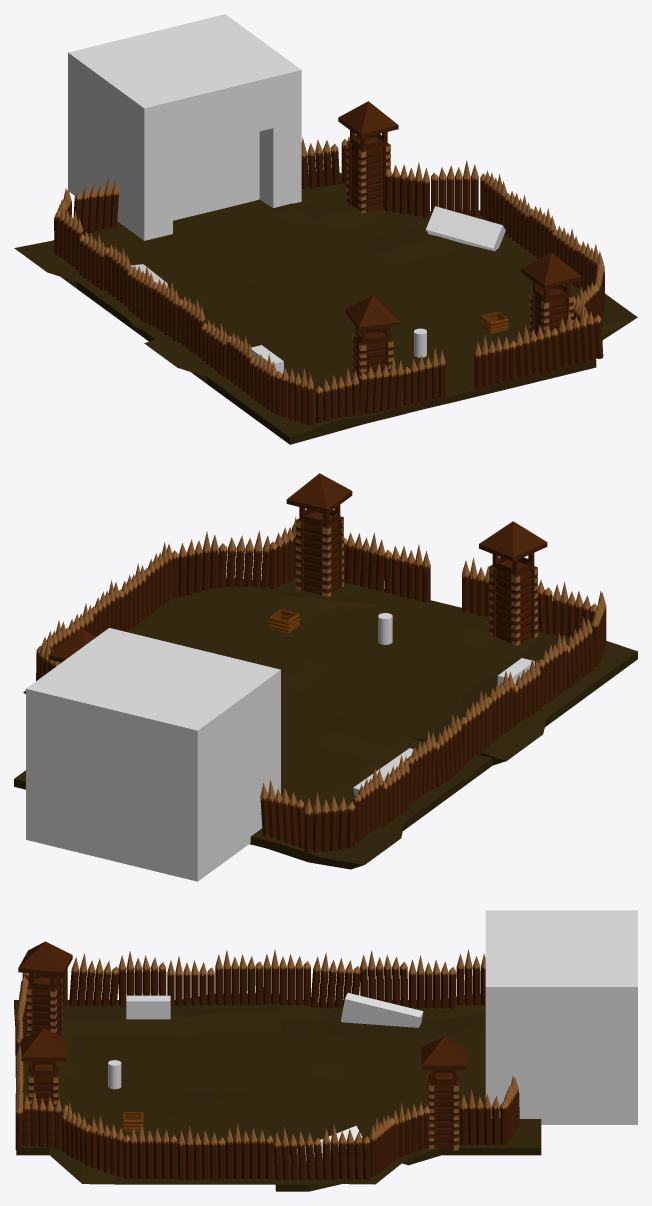
File: 2Lvl.fbx
3 renders of one model, top to bottom at view 1: azimuth 30°, elevation 25°; view 2: azimuth 150°, elevation 25°; view 3: azimuth 270°, elevation 25°, orthographic. The views are drawn at different scales.
Parts seen in each view (by area): view 1: Plane.001, Cube.008, Cube.007, Cube, Cube.001, Cube.005, Cylinder.004, Cylinder.020, Cylinder.019, Cylinder.003, Cylinder.002, Cylinder (+19 smaller); view 2: Plane.001, Cube.008, Cube.001, Cube, Cylinder.029, Cylinder.006, Cylinder.007, Cylinder.001, Cylinder.028, Cylinder.003, Cylinder.025, Cylinder.026 (+16 smaller); view 3: Plane.001, Cube.008, Cube.007, Cube.001, Cube, Cylinder.008, Cylinder.016, Cylinder.027, Cylinder.021, Cylinder.014, Cylinder.018, Cylinder.009 (+17 smaller).
Part boxes in pixels (<box>): Plane.001: <box>14,168,637,444</box>; Cube.008: <box>68,14,301,240</box>; Cube.007: <box>338,101,398,213</box>; Cube: <box>521,252,581,361</box>; Cube.001: <box>345,295,399,381</box>; Cube.005: <box>426,206,505,251</box>; Cylinder.004: <box>558,311,603,368</box>; Cylinder.020: <box>384,162,429,217</box>; Cylinder.019: <box>431,160,478,216</box>; Cylinder.003: <box>515,324,559,382</box>; Cylinder.002: <box>359,356,403,415</box>; Cylinder: <box>403,348,445,410</box>; Plane.001: <box>14,578,637,869</box>; Cube.008: <box>26,628,280,881</box>; Cube.001: <box>479,521,547,645</box>; Cube: <box>286,473,352,597</box>; Cylinder.029: <box>304,792,355,852</box>; Cylinder.006: <box>218,530,270,587</box>; Cylinder.007: <box>172,531,218,598</box>; Cylinder.001: <box>384,544,430,602</box>; Cylinder.028: <box>260,779,304,848</box>; Cylinder.003: <box>343,532,385,591</box>; Cylinder.025: <box>353,767,383,841</box>; Cylinder.026: <box>552,582,596,636</box>; Plane.001: <box>14,993,541,1191</box>; Cube.008: <box>485,910,637,1124</box>; Cube.007: <box>421,1036,467,1150</box>; Cube.001: <box>18,941,72,1036</box>; Cube: <box>21,1028,66,1139</box>; Cylinder.008: <box>129,1123,177,1179</box>; Cylinder.016: <box>225,1123,273,1179</box>; Cylinder.027: <box>460,1089,507,1145</box>; Cylinder.021: <box>263,949,310,1005</box>; Cylinder.014: <box>215,950,263,1005</box>; Cylinder.018: <box>322,1124,370,1179</box>; Cylinder.009: <box>177,1125,225,1179</box>.
Size of the model in its own units: 3433 by 1225 by 4705.
